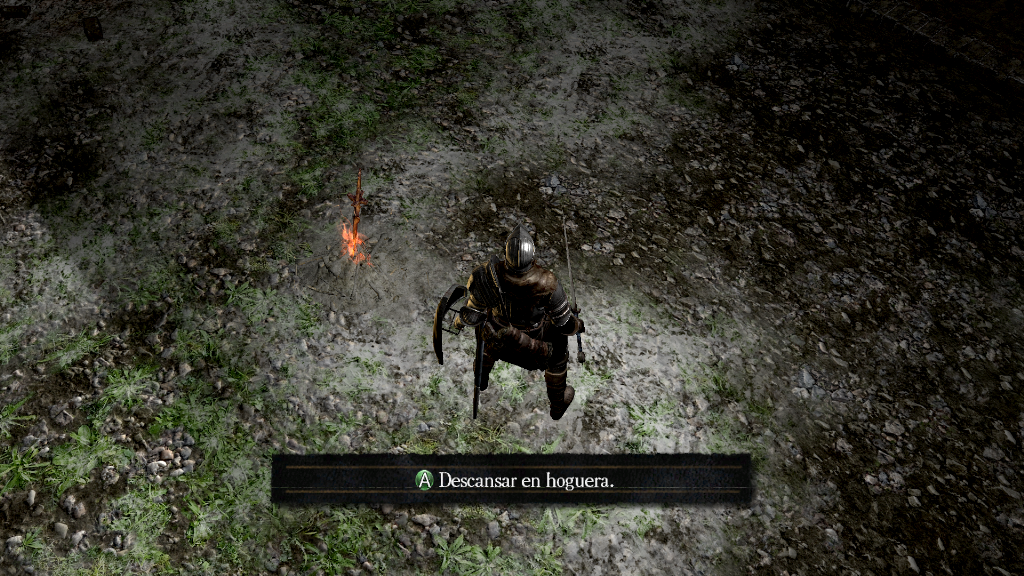bonfire: (331, 169, 380, 278)
dialogBox: (272, 455, 752, 506)
player: (429, 216, 591, 421)
